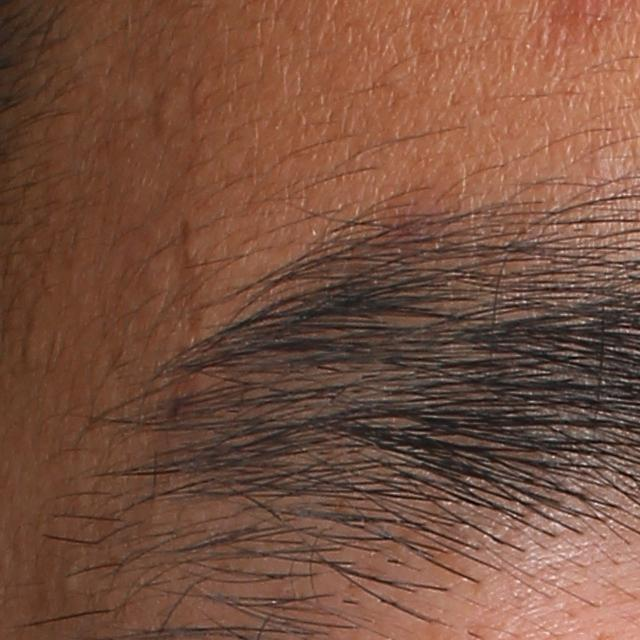comedo: (145, 88, 182, 134)
